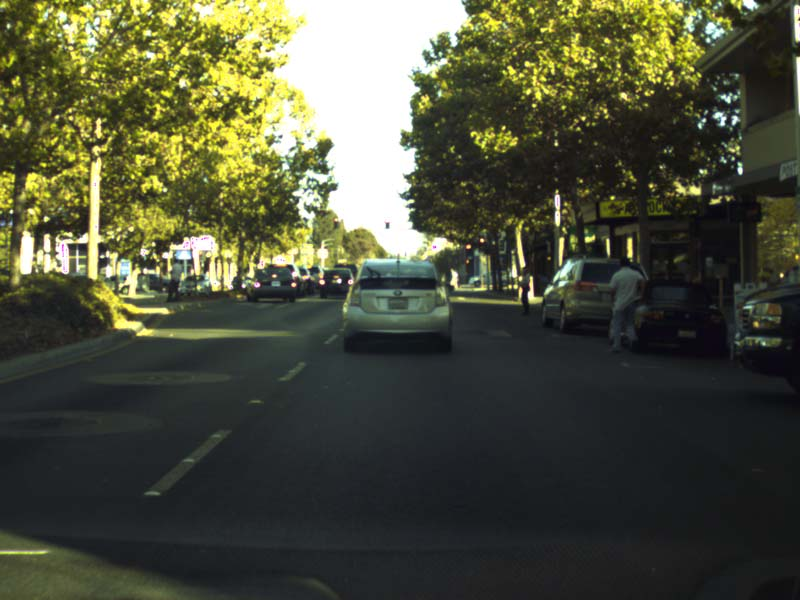Red: (466, 243, 472, 254), (333, 217, 338, 228), (479, 236, 484, 247), (384, 220, 390, 228)
